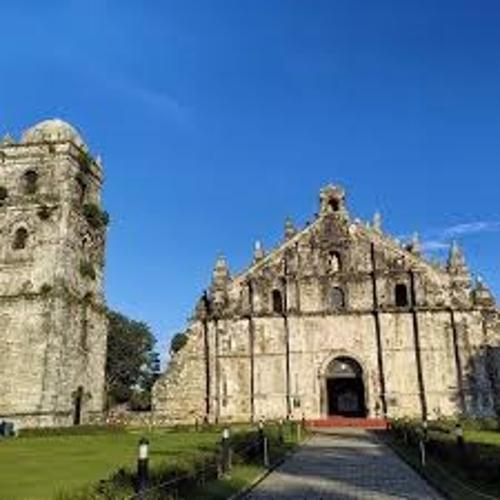Paoay Church: (4, 111, 496, 435)
